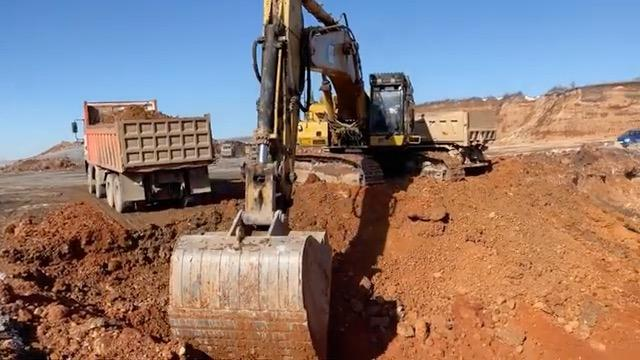excavator: (171, 0, 407, 339)
